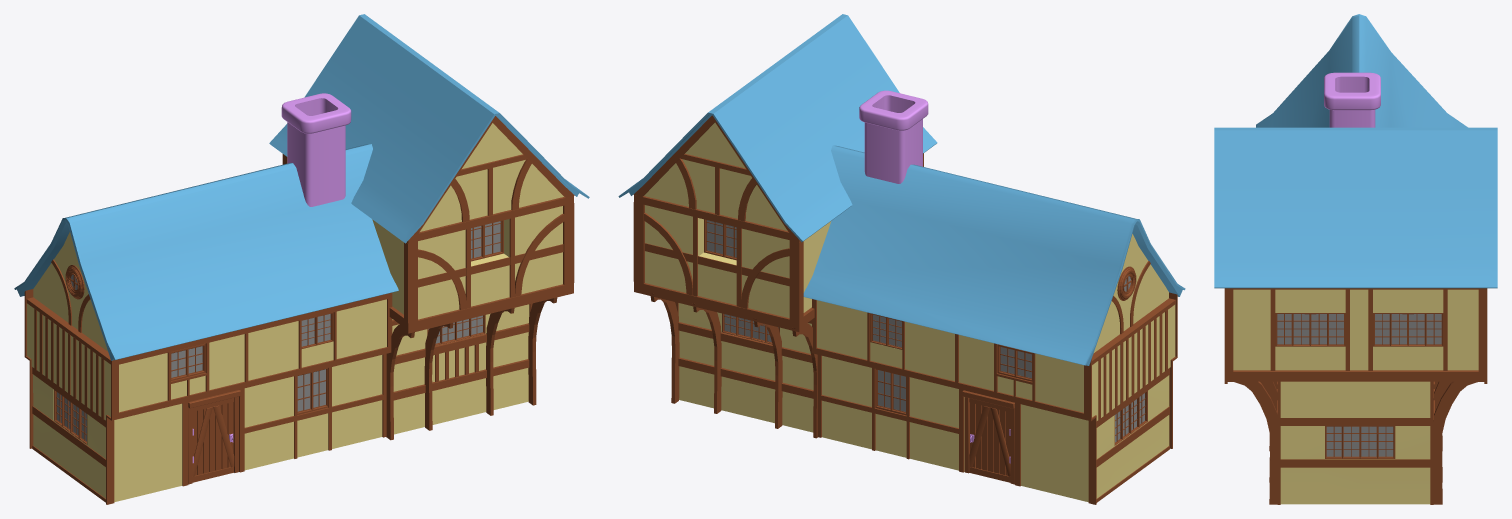
Rendered from muwu7.FBX.
3 views of the same model, side by side, from view 1: azimuth 30°, elevation 25°; view 2: azimuth 150°, elevation 25°; view 3: azimuth 270°, elevation 25° (orthographic). The views are drawn at different scales.
Parts seen in each view (by area): view 1: HouseSM01_RoofTiles, HouseSM01_PlasterYellow, HouseSM01_Wood_Beams, HouseSM01_Stone_Stacked, HouseSM01_Glass, HouseSM01_WoodDark, HouseSM01_Mullions_Wood; view 2: HouseSM01_RoofTiles, HouseSM01_PlasterYellow, HouseSM01_Wood_Beams, HouseSM01_Stone_Stacked, HouseSM01_Glass, HouseSM01_WoodDark, HouseSM01_Mullions_Wood; view 3: HouseSM01_RoofTiles, HouseSM01_PlasterYellow, HouseSM01_Wood_Beams, HouseSM01_Glass, HouseSM01_Stone_Stacked, HouseSM01_Mullions_Wood.
Boxes of the visible parts, x1,y1,x2,y2 form: HouseSM01_RoofTiles: (14, 14, 589, 360); HouseSM01_PlasterYellow: (27, 123, 563, 502); HouseSM01_Wood_Beams: (24, 116, 574, 504); HouseSM01_Stone_Stacked: (281, 93, 351, 206); HouseSM01_Glass: (57, 221, 500, 441); HouseSM01_WoodDark: (188, 390, 240, 484); HouseSM01_Mullions_Wood: (56, 221, 501, 442); HouseSM01_RoofTiles: (618, 14, 1185, 365); HouseSM01_PlasterYellow: (644, 122, 1175, 502); HouseSM01_Wood_Beams: (633, 115, 1177, 504); HouseSM01_Stone_Stacked: (859, 90, 928, 183); HouseSM01_Glass: (707, 220, 1144, 442); HouseSM01_WoodDark: (962, 390, 1014, 484); HouseSM01_Mullions_Wood: (706, 220, 1145, 442); HouseSM01_RoofTiles: (1214, 14, 1497, 288); HouseSM01_PlasterYellow: (1233, 289, 1478, 504); HouseSM01_Wood_Beams: (1224, 288, 1487, 504); HouseSM01_Glass: (1277, 314, 1441, 456); HouseSM01_Stone_Stacked: (1324, 72, 1380, 127); HouseSM01_Mullions_Wood: (1277, 314, 1441, 457).
Bounding box in the file's own units: 13.83 × 9.48 × 7.12.
